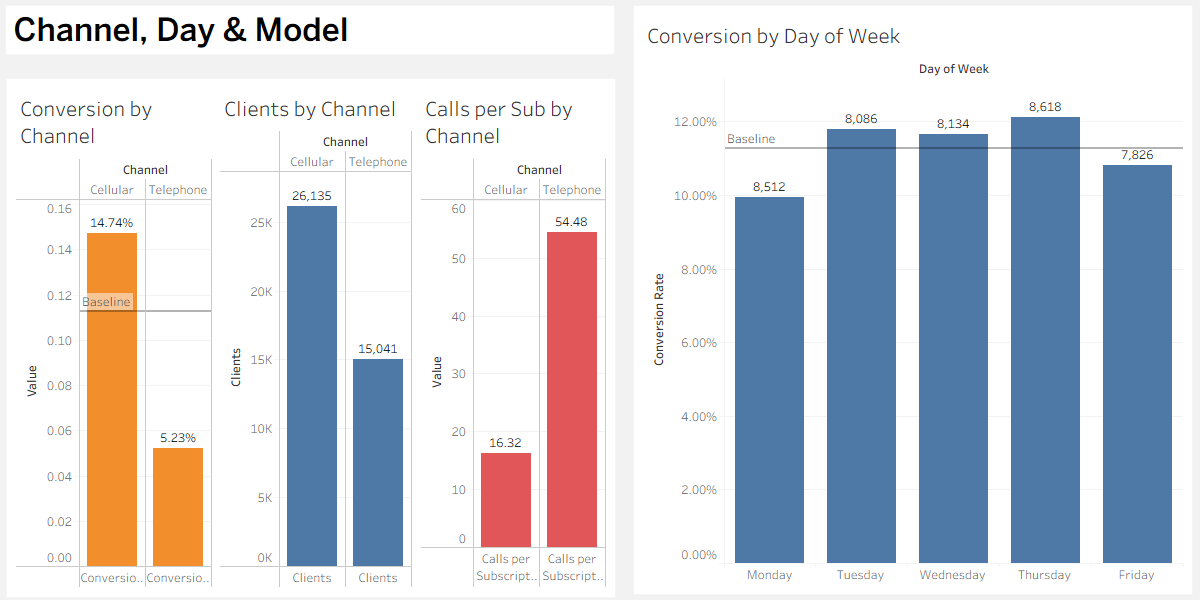

The dashboard page shown, as its layout file describes it:
{"tool":"tableau","page":{"name":"Channel,Day & Model","canvas":[1200,600],"ordinal":1},"visuals":[{"type":"text","box":[0,0,620,60]},{"type":"worksheet","title":"Conversion by Day of Week","mark":"Bar","rows":["Calculation_1690823979683849"],"cols":["contact_dow"],"box":[639,11,548,578]},{"type":"worksheet","title":"Conversion by Channel","mark":"Automatic","cols":["contact_type"],"box":[12,84,204.3,508]},{"type":"worksheet","title":"Clients by Channel","mark":"Automatic","cols":["contact_type"],"box":[216.3,84,200.3,508]},{"type":"worksheet","title":"Calls per Sub by Channel","mark":"Automatic","cols":["contact_type"],"box":[416.7,84,193.3,508]}]}

Visuals, with their boxes in screenshot pixels (x1, y1, x2, y2), scaled from the page's 1200x600 canvas onto the 1200x600 screenshot:
text: select_region(0, 0, 620, 60)
"Conversion by Day of Week" worksheet (Bar marks): select_region(639, 11, 1187, 589)
"Conversion by Channel" worksheet: select_region(12, 84, 216, 592)
"Clients by Channel" worksheet: select_region(216, 84, 417, 592)
"Calls per Sub by Channel" worksheet: select_region(417, 84, 610, 592)
